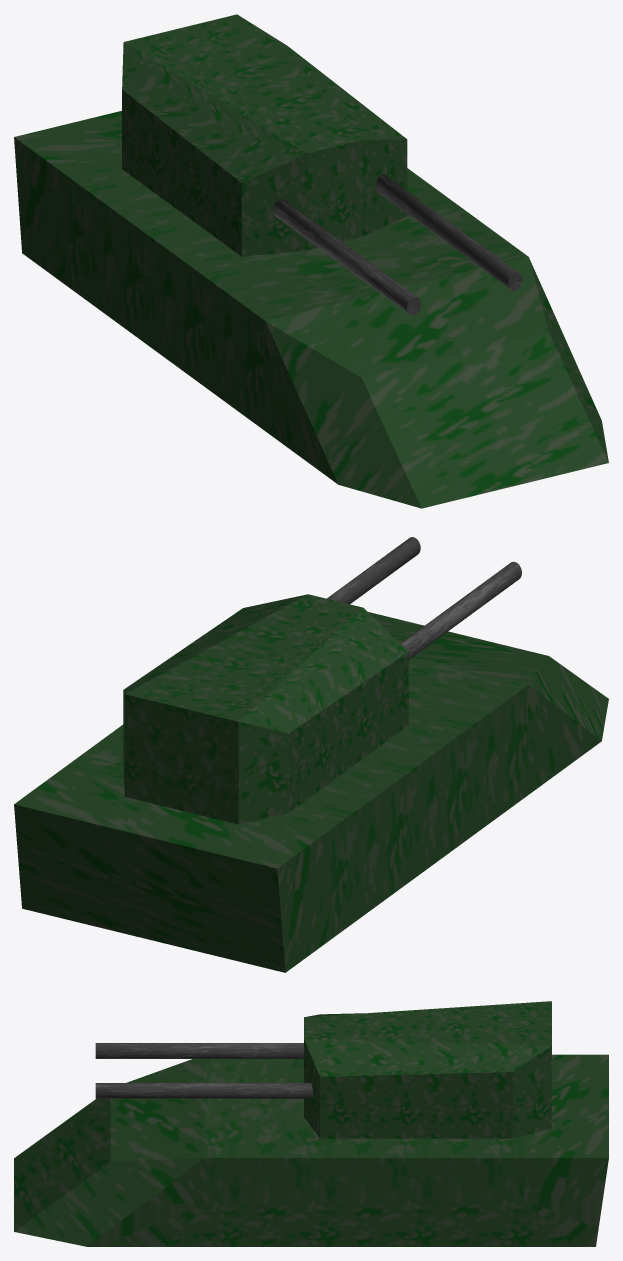
The model's file is Tank.fbx.
3 views of the same model, one above another, from view 1: azimuth 30°, elevation 25°; view 2: azimuth 150°, elevation 25°; view 3: azimuth 270°, elevation 25° (orthographic). The views are drawn at different scales.
Parts seen in each view (by area): view 1: Hull, Turret, RightCannon, LeftCannon; view 2: Hull, Turret, RightCannon, LeftCannon; view 3: Hull, Turret, LeftCannon, RightCannon.
Part boxes in pixels (<box>): Hull: <box>14,111,608,508</box>; Turret: <box>122,14,407,256</box>; RightCannon: <box>272,199,421,315</box>; LeftCannon: <box>376,174,522,290</box>; Hull: <box>14,612,608,972</box>; Turret: <box>123,594,408,824</box>; RightCannon: <box>400,561,521,659</box>; LeftCannon: <box>327,537,420,604</box>; Hull: <box>14,1054,608,1246</box>; Turret: <box>304,1001,551,1138</box>; LeftCannon: <box>95,1083,312,1098</box>; RightCannon: <box>95,1043,303,1058</box>.
Bounding box in the file's own units: 5 × 3.86 × 12.16.
1 material, 1 textured.
